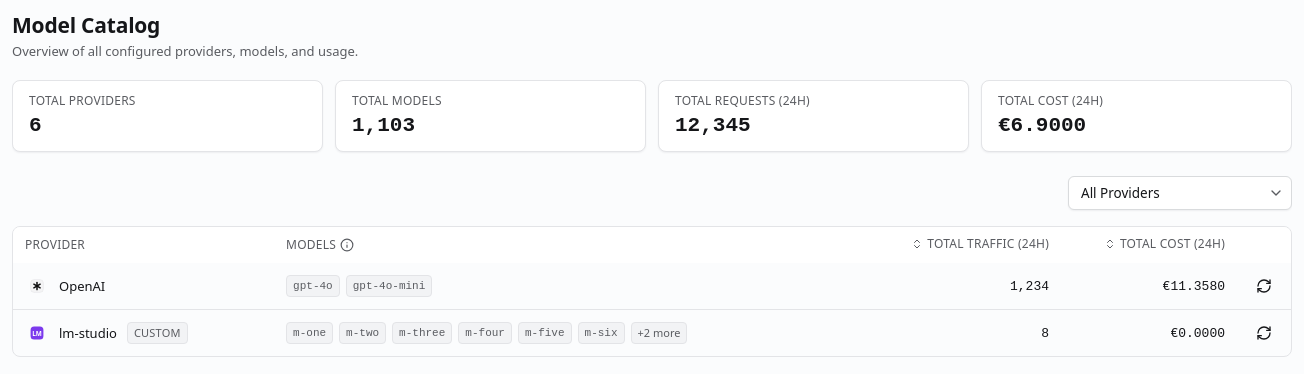
Test case: ModelCatalogView › collapses long model lists behind a +N more toggle
Expected: the text "m-six" is shown, [578,322,624,344]
Expected: the text "m-seven" is not shown
Click the button "+2 more".
click(659, 333)  # box [631,322,688,344]
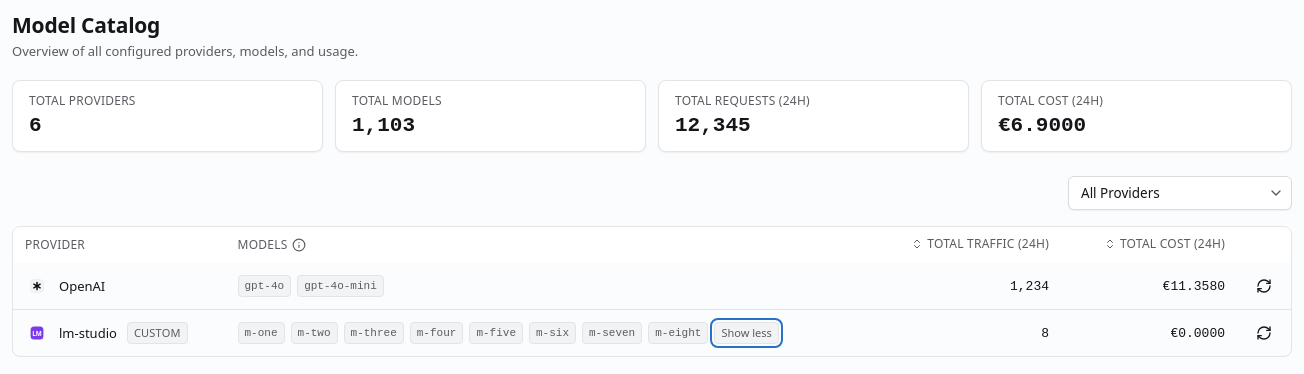
Now the text "m-seven" is shown, box [582,322,642,344]
Now the text "m-eight" is shown, box [648,322,708,344]
Now the button "Show less" is shown, box [714,322,779,344]
